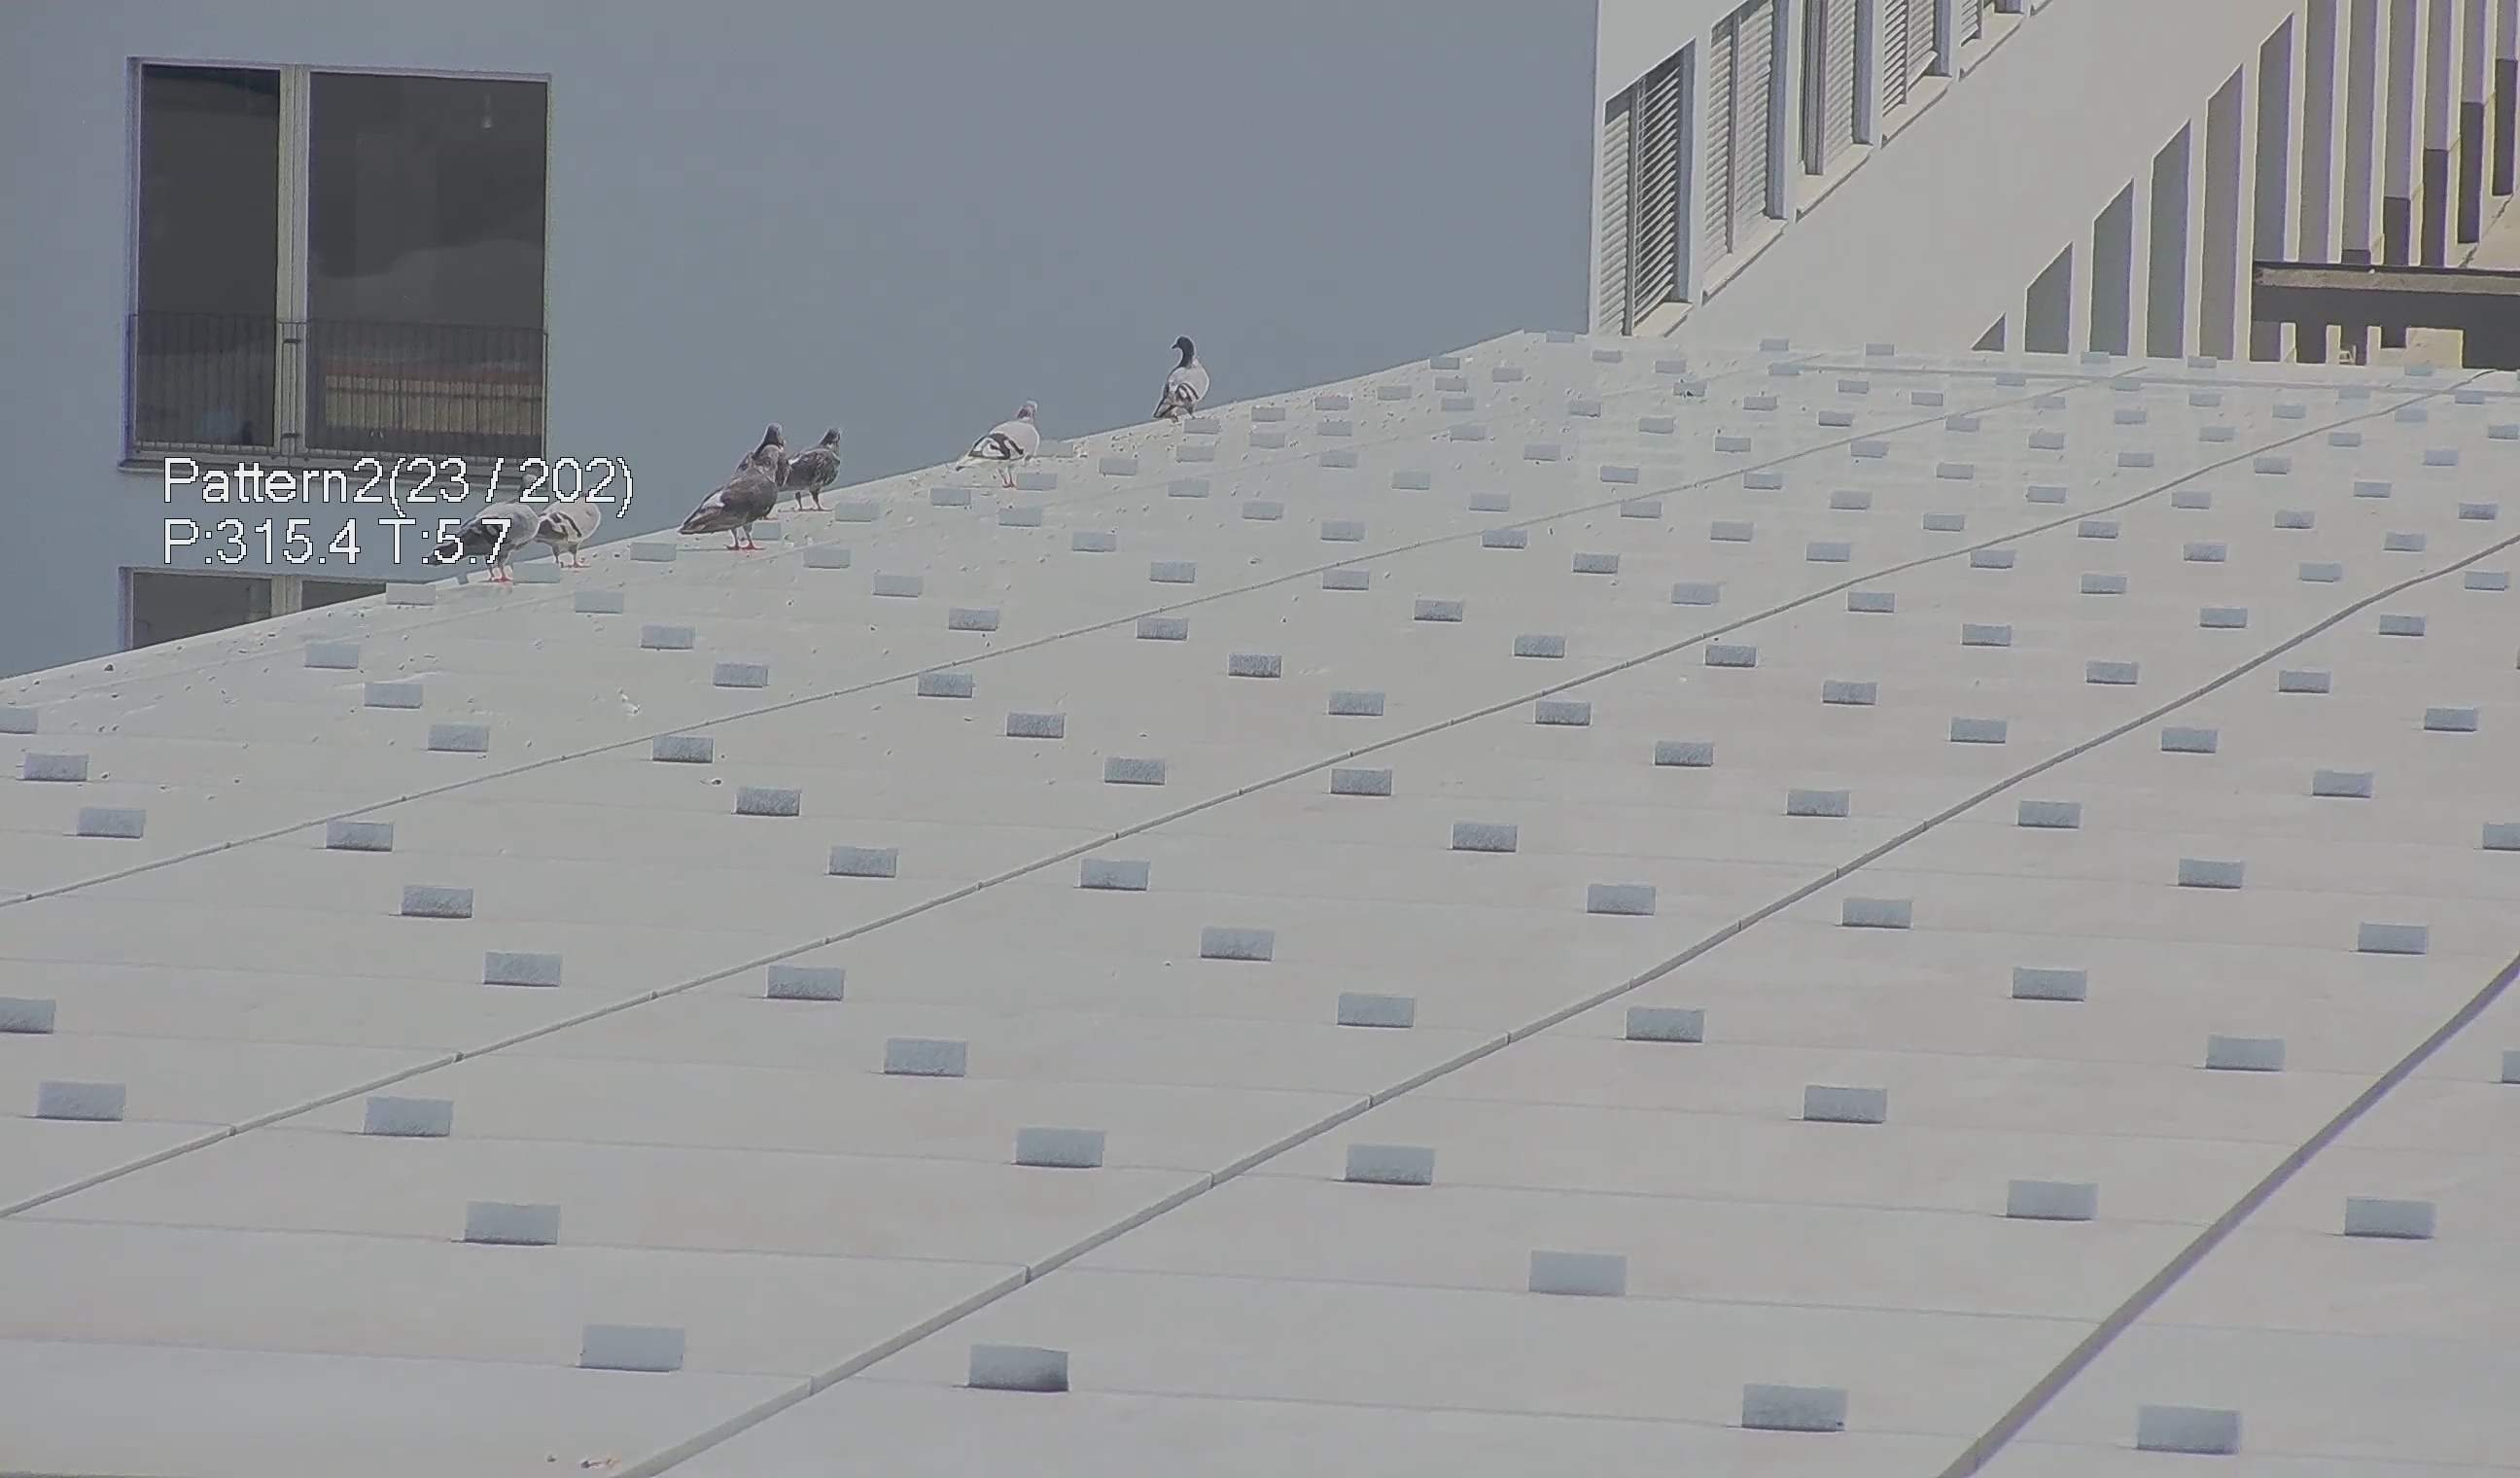Pigeon: (665, 459, 804, 556), (950, 394, 1052, 503), (434, 503, 542, 593), (1150, 320, 1227, 428), (781, 421, 853, 517), (536, 482, 603, 575), (742, 406, 795, 475)
